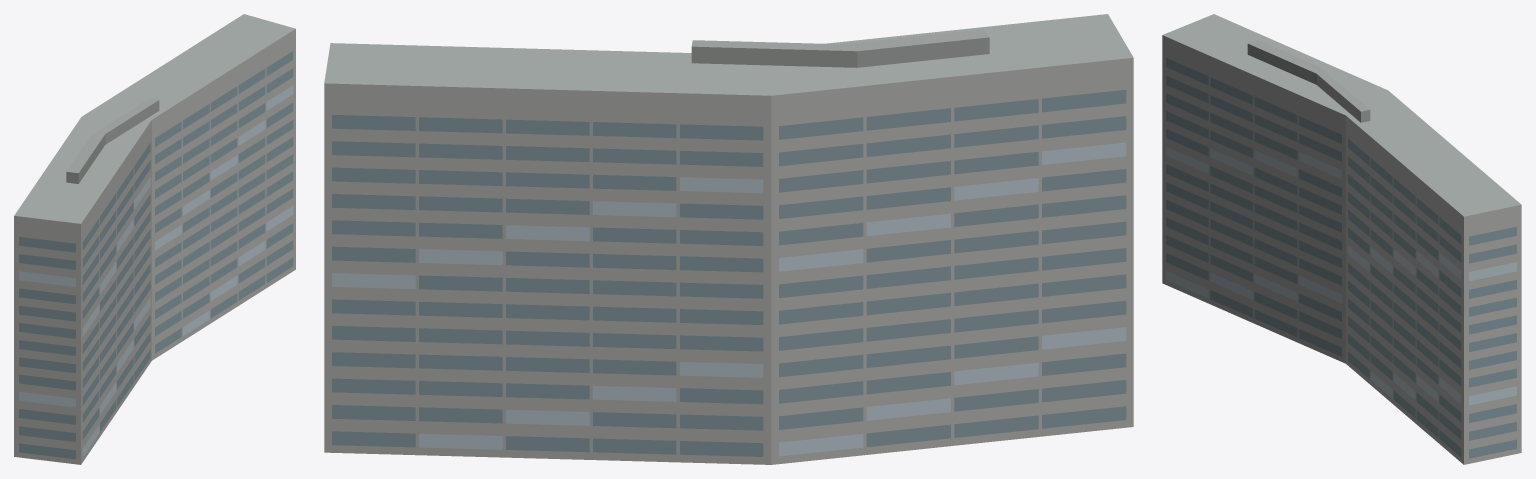
File: fallback-daechi-eunma-25.glb
3 renders of one model, left to right at view 1: azimuth 30°, elevation 25°; view 2: azimuth 150°, elevation 25°; view 3: azimuth 270°, elevation 25°, orthographic. The views are drawn at different scales.
Visible parts, largest first — view 1: fallback-daechi-eunma-25; view 2: fallback-daechi-eunma-25; view 3: fallback-daechi-eunma-25.
Boxes of the visible parts, <box> form: fallback-daechi-eunma-25: <box>14,14,295,464</box>; fallback-daechi-eunma-25: <box>324,14,1133,464</box>; fallback-daechi-eunma-25: <box>1162,14,1521,464</box>.
Size of the model in its own units: 74.74 by 44.62 by 55.99.
